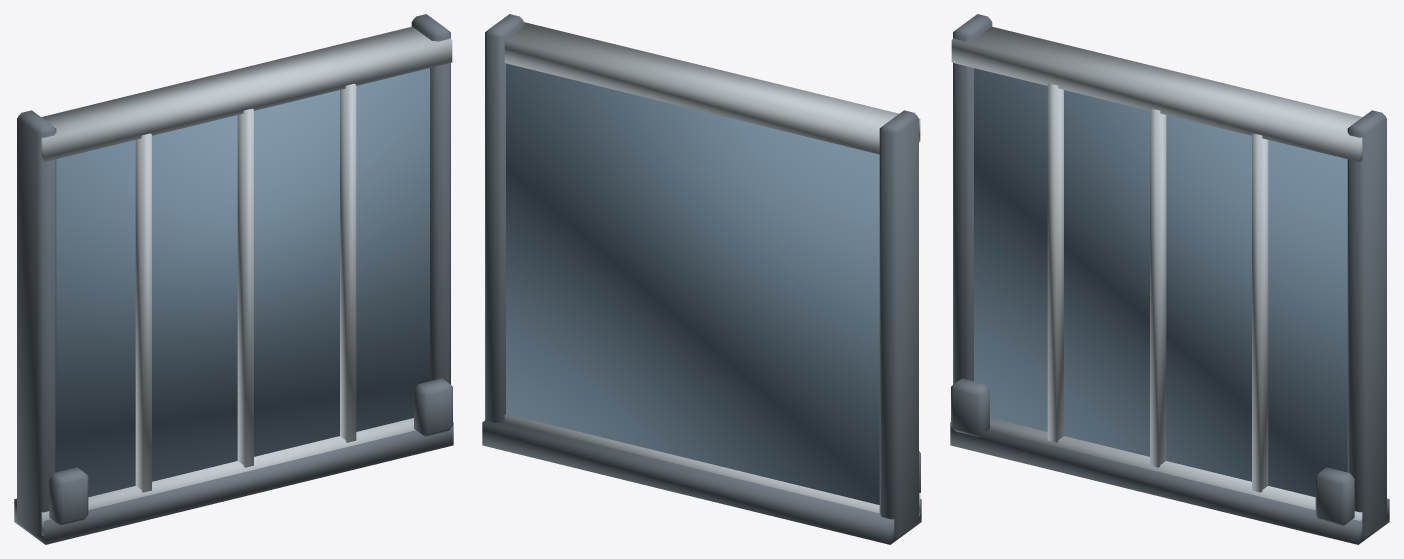
Rendered from window_wall_ultra.glb.
3 renders of one model, left to right at view 1: azimuth 30°, elevation 25°; view 2: azimuth 150°, elevation 25°; view 3: azimuth 330°, elevation 25°, orthographic.
Visible parts, largest first — view 1: Wall_glass, Frame_steel, Frame_dark, Base_dark, Footing_dark; view 2: Wall_glass, Frame_dark, Frame_steel, Base_dark; view 3: Wall_glass, Frame_steel, Frame_dark, Base_dark, Footing_dark.
Part boxes in pixels (bbox=[...]): Wall_glass: bbox=[56, 68, 429, 497]; Frame_steel: bbox=[41, 26, 452, 536]; Frame_dark: bbox=[17, 14, 450, 538]; Base_dark: bbox=[14, 422, 453, 544]; Footing_dark: bbox=[49, 378, 452, 525]; Wall_glass: bbox=[506, 63, 879, 504]; Frame_dark: bbox=[485, 14, 918, 538]; Frame_steel: bbox=[504, 22, 920, 516]; Base_dark: bbox=[482, 420, 921, 544]; Wall_glass: bbox=[974, 68, 1347, 497]; Frame_steel: bbox=[951, 26, 1362, 520]; Frame_dark: bbox=[953, 14, 1386, 538]; Base_dark: bbox=[950, 422, 1389, 544]; Footing_dark: bbox=[951, 378, 1354, 525].
Size of the model in its own units: 3.04 by 2.9 by 0.495.
